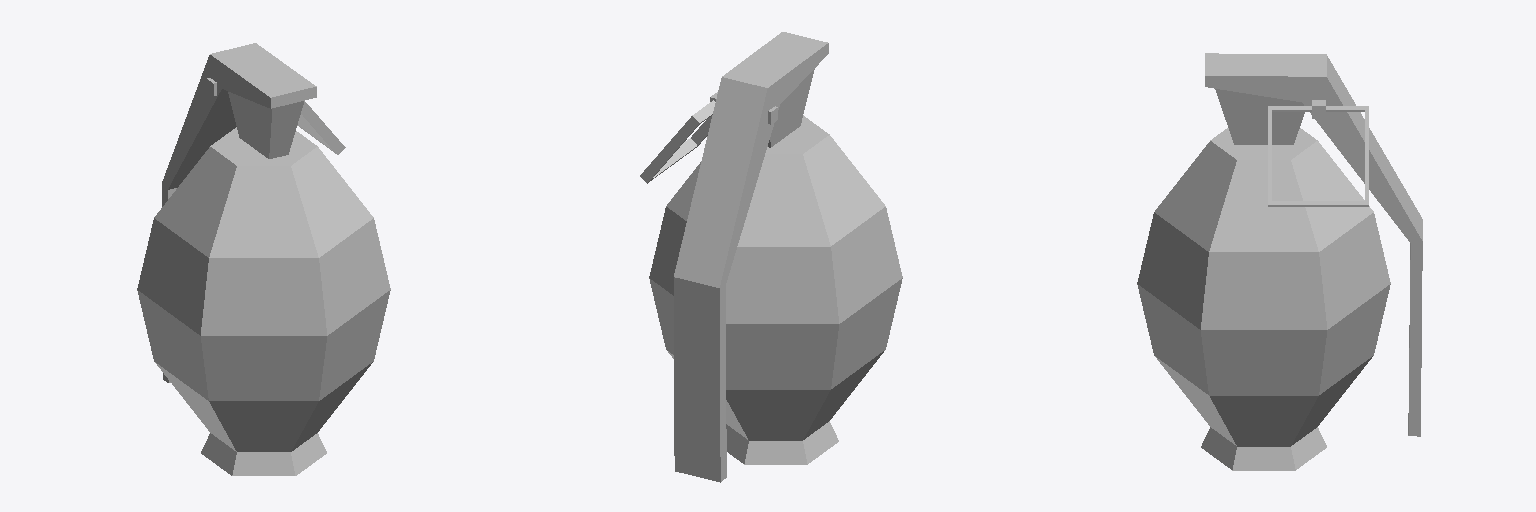
The model's file is Grenade_Frag_M26.obj.
3 renders of one model, left to right at view 1: azimuth 30°, elevation 25°; view 2: azimuth 150°, elevation 25°; view 3: azimuth 270°, elevation 25°, orthographic.
Visible parts, largest first — view 1: Grenade_Frag_M26_Cube.011; view 2: Grenade_Frag_M26_Cube.011; view 3: Grenade_Frag_M26_Cube.011.
Part boxes in pixels (bbox=[...]): Grenade_Frag_M26_Cube.011: bbox=[137, 43, 390, 475]; Grenade_Frag_M26_Cube.011: bbox=[640, 32, 902, 482]; Grenade_Frag_M26_Cube.011: bbox=[1137, 53, 1422, 470].
Size of the model in its own units: 0.0557 by 0.107 by 0.0724.